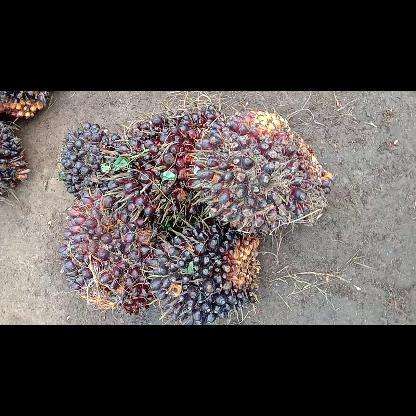TBS mentah: (188, 107, 336, 239), (56, 184, 166, 318), (118, 108, 224, 224), (147, 218, 263, 324), (56, 120, 132, 202)
